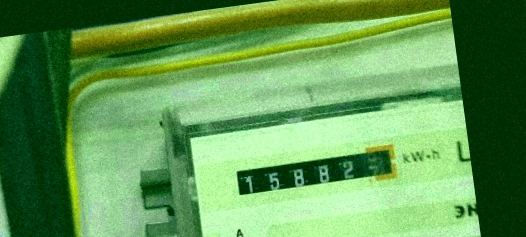1: (243, 173, 254, 192)
2: (340, 157, 355, 179)
5: (264, 169, 281, 190)
7: (365, 161, 379, 175)
8: (291, 165, 306, 187), (315, 161, 330, 183)
screen: (229, 140, 402, 203)
